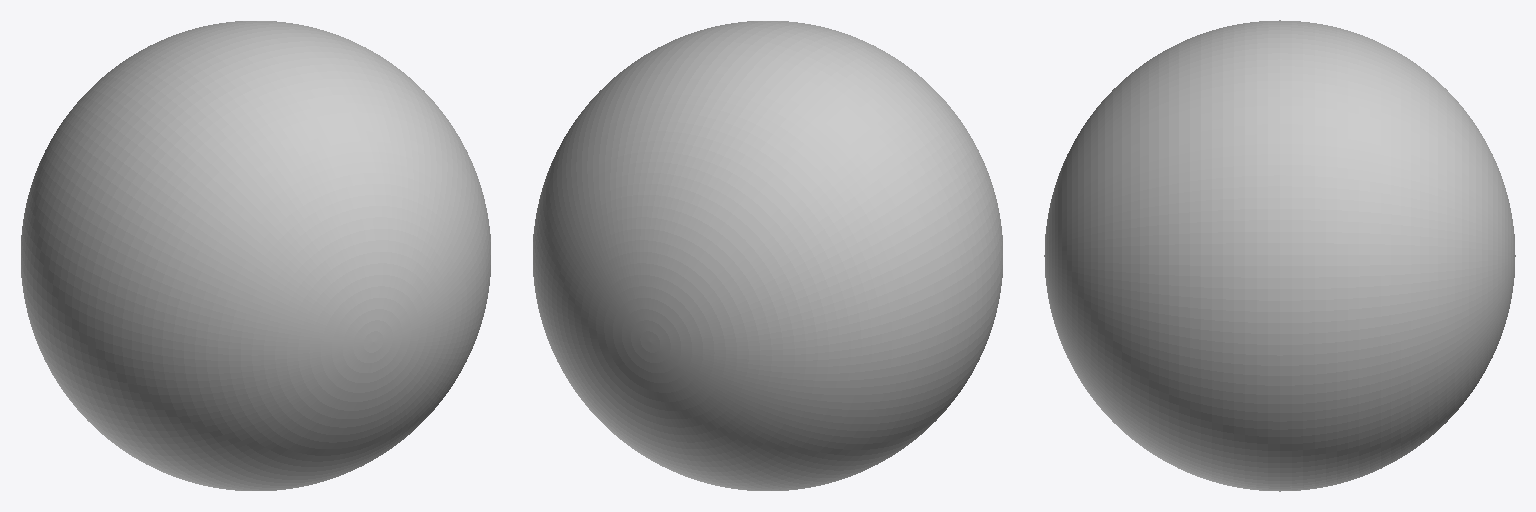
The model's file is europa.obj.
3 renders of one model, left to right at view 1: azimuth 30°, elevation 25°; view 2: azimuth 150°, elevation 25°; view 3: azimuth 270°, elevation 25°, orthographic.
Visible parts, largest first — view 1: Sphere_Sphere.002; view 2: Sphere_Sphere.002; view 3: Sphere_Sphere.002.
Boxes of the visible parts, x1=… form: Sphere_Sphere.002: x1=21, y1=21, x2=490, y2=490; Sphere_Sphere.002: x1=533, y1=21, x2=1002, y2=490; Sphere_Sphere.002: x1=1044, y1=20, x2=1515, y2=491.
Bounding box in the file's own units: 3122 × 3122 × 3122.